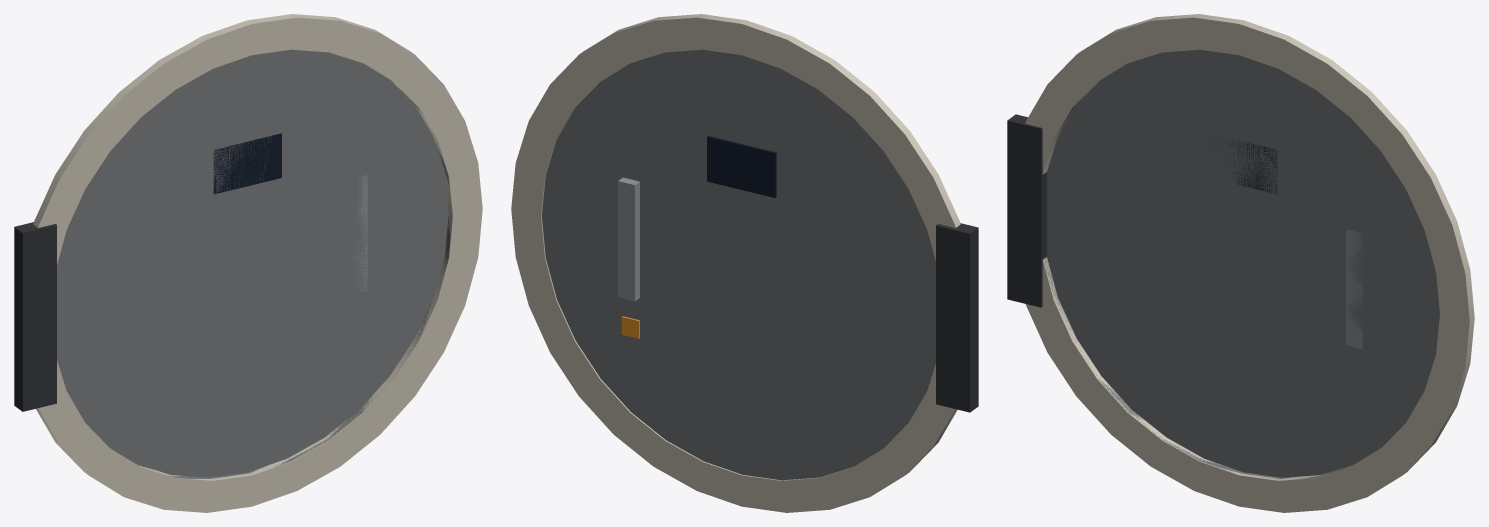
The model's file is ec2_hatch_seal.obj.
3 renders of one model, left to right at view 1: azimuth 30°, elevation 25°; view 2: azimuth 150°, elevation 25°; view 3: azimuth 330°, elevation 25°, orthographic.
Visible parts, largest first — view 1: ec2_hatch_seal; view 2: ec2_hatch_seal; view 3: ec2_hatch_seal.
Boxes of the visible parts, x1=… form: ec2_hatch_seal: x1=14, y1=14, x2=482, y2=512; ec2_hatch_seal: x1=511, y1=14, x2=978, y2=512; ec2_hatch_seal: x1=1007, y1=14, x2=1474, y2=512.
Bounding box in the file's own units: 1.08 × 1.08 × 0.0425.
